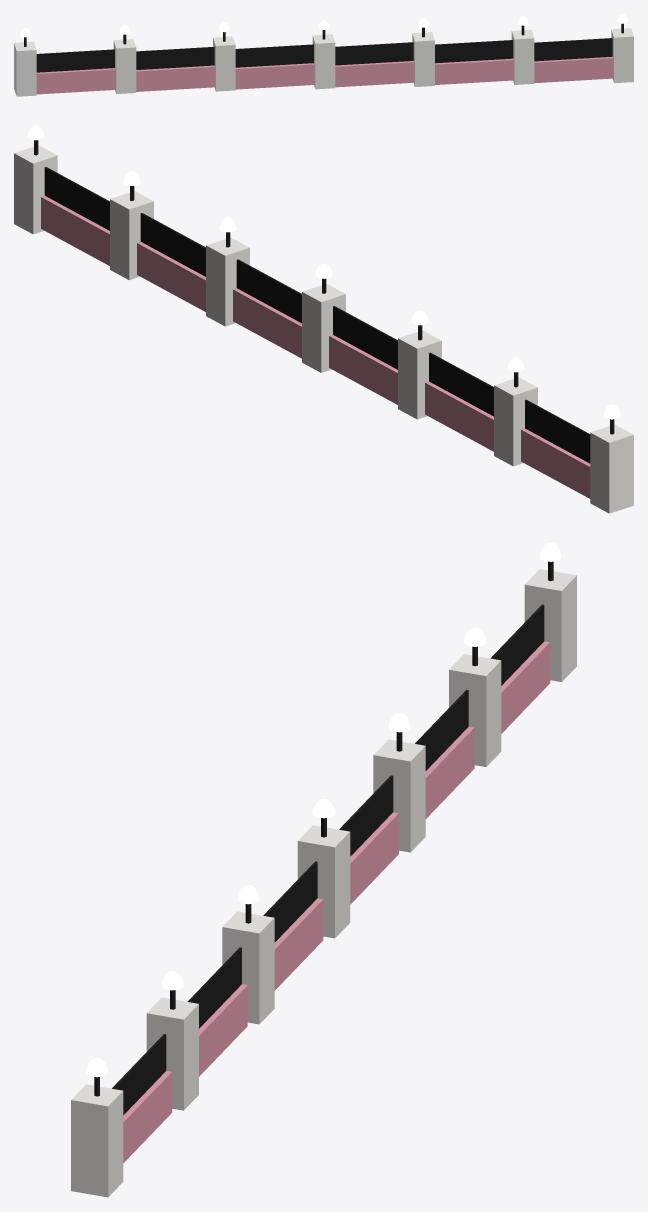
File: noord_pinkwall.glb
3 views of the same model, one above another, from view 1: azimuth 30°, elevation 25°; view 2: azimuth 150°, elevation 25°; view 3: azimuth 270°, elevation 25° (orthographic). The views are drawn at different scales.
Visible parts, largest first — view 1: noord_pinkwall_lod0; view 2: noord_pinkwall_lod0; view 3: noord_pinkwall_lod0.
Part boxes in pixels (x1,y1,x2,y2): noord_pinkwall_lod0: (14, 14, 633, 96); noord_pinkwall_lod0: (14, 125, 633, 513); noord_pinkwall_lod0: (71, 542, 576, 1197).
Size of what is drawn, in the model's own units: 23.28 by 3.75 by 10.07.
